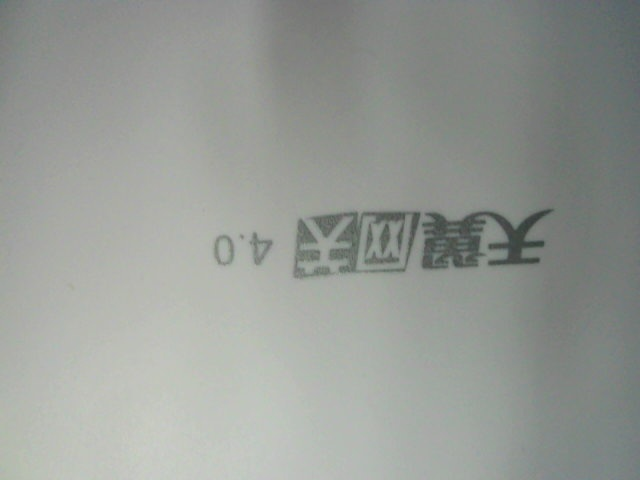BM_TianYiWangGuan: (188, 190, 560, 281)
